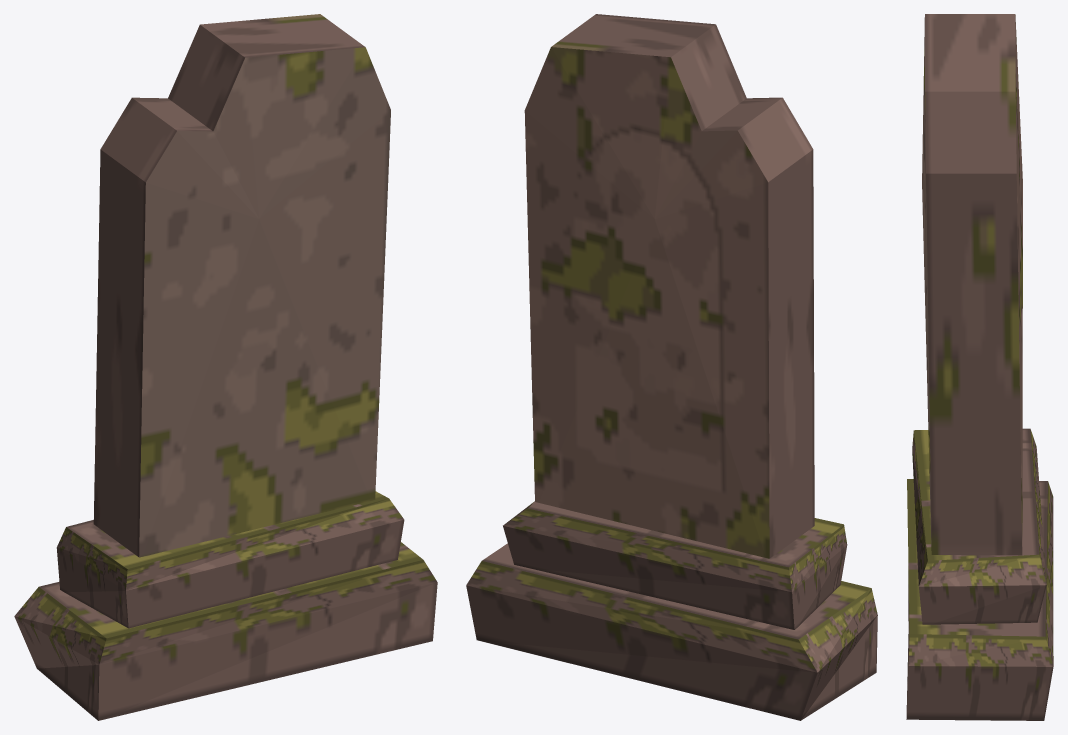
Rendered from SM_SP07_GravestoneLarge.fbx.
3 views of the same model, side by side, from view 1: azimuth 30°, elevation 25°; view 2: azimuth 150°, elevation 25°; view 3: azimuth 270°, elevation 25° (orthographic).
Visible parts, largest first — view 1: SP07_Stone; view 2: SP07_Stone; view 3: SP07_Stone.
Part boxes in pixels (left/top/right/bottom): SP07_Stone: left=14, top=14, right=437, bottom=720; SP07_Stone: left=466, top=14, right=877, bottom=720; SP07_Stone: left=906, top=14, right=1053, bottom=720.
Bounding box in the file's own units: 1.17 × 1.96 × 0.4221.
